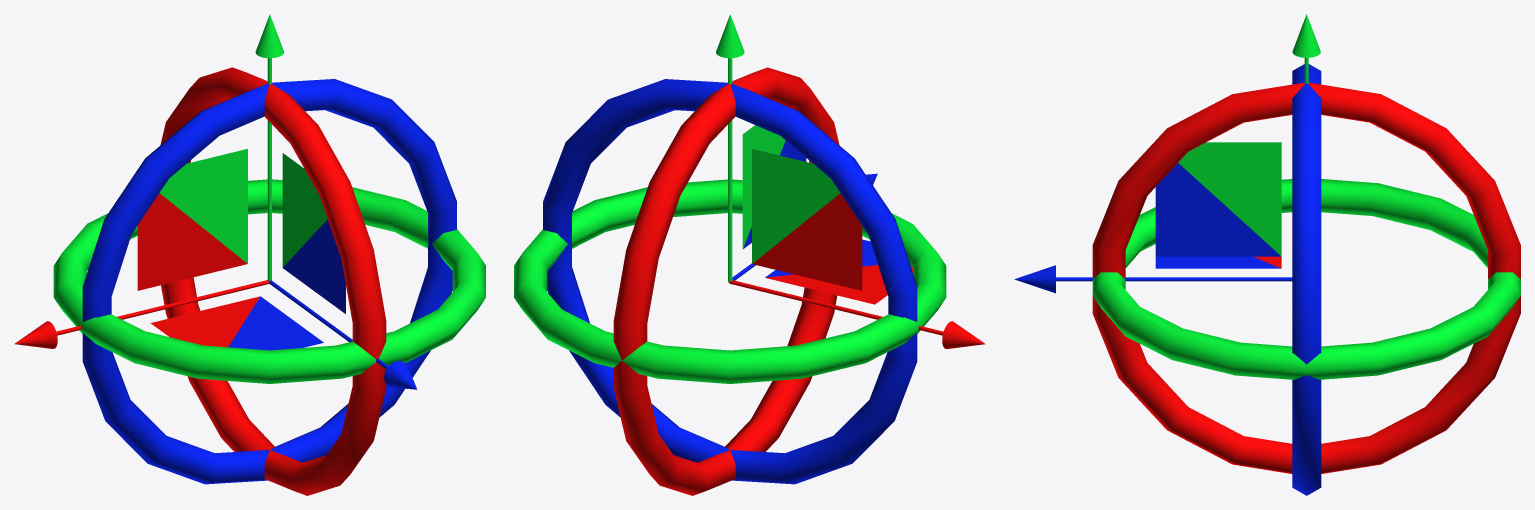
Rendered from GizmoFBX.FBX.
The picture shows the model from 3 angles, left to right: view 1: azimuth 30°, elevation 25°; view 2: azimuth 150°, elevation 25°; view 3: azimuth 270°, elevation 25°; orthographic projection.
Parts seen in each view (by area): view 1: Torus_XY, Torus_YZ, Torus_XZ, Ebene_XY, Ebene_YZ, Ebene_XZ, Y_Achse, X_Achse, Z_Achse; view 2: Torus_XY, Torus_YZ, Torus_XZ, Ebene_XY, Ebene_XZ, Ebene_YZ, Y_Achse, X_Achse; view 3: Torus_YZ, Torus_XZ, Ebene_YZ, Torus_XY, Z_Achse, Ebene_XZ, Y_Achse.
Part boxes in pixels (x1,y1,x2,y2): Torus_XY: (82, 79, 456, 484); Torus_YZ: (160, 67, 386, 495); Torus_XZ: (53, 179, 485, 383); Ebene_XY: (137, 149, 247, 290); Ebene_YZ: (282, 153, 345, 313); Ebene_XZ: (150, 296, 323, 350); Y_Achse: (255, 14, 283, 280); X_Achse: (14, 280, 269, 348); Z_Achse: (269, 280, 417, 389); Torus_XY: (543, 79, 917, 484); Torus_YZ: (613, 67, 839, 495); Torus_XZ: (514, 179, 946, 383); Ebene_XY: (752, 149, 862, 290); Ebene_XZ: (765, 239, 912, 304); Ebene_YZ: (742, 125, 806, 248); Y_Achse: (716, 14, 744, 282); X_Achse: (729, 280, 985, 348); Torus_YZ: (1092, 82, 1520, 473); Torus_XZ: (1092, 179, 1520, 379); Ebene_YZ: (1155, 142, 1281, 256); Torus_XY: (1292, 64, 1321, 495); Z_Achse: (1014, 265, 1292, 293); Ebene_XZ: (1155, 256, 1281, 268); Y_Achse: (1292, 14, 1320, 83).
Size of the model in its own units: 61 by 60.61 by 61.
